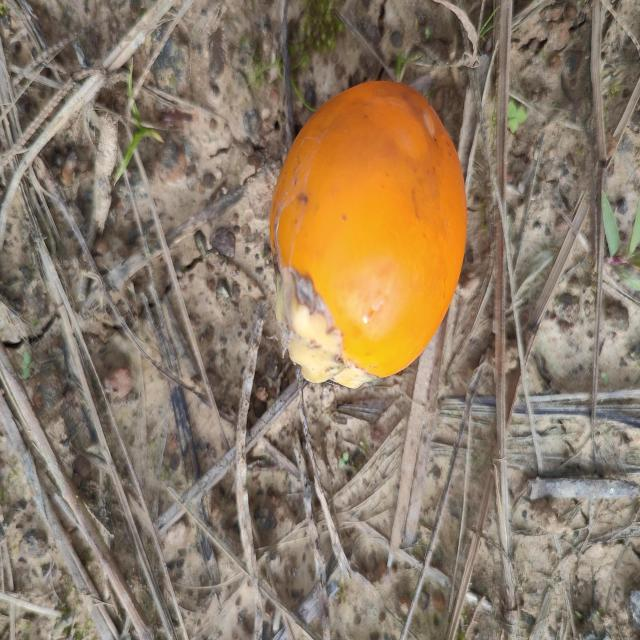good: (267, 80, 468, 384)
